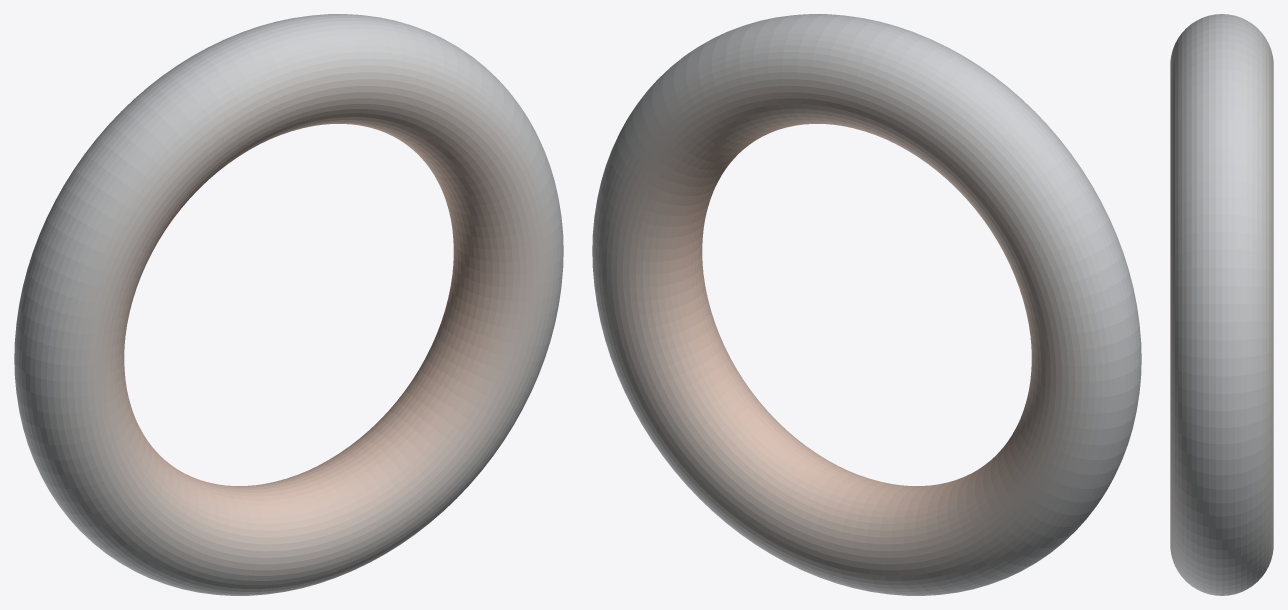
3 views of the same model, side by side, from view 1: azimuth 30°, elevation 25°; view 2: azimuth 150°, elevation 25°; view 3: azimuth 270°, elevation 25° (orthographic). The views are drawn at different scales.
Parts seen in each view (by area): view 1: world; view 2: world; view 3: world.
Boxes of the visible parts, x1,y1,x2,y2 form: world: [14, 14, 563, 595]; world: [592, 14, 1141, 595]; world: [1170, 14, 1273, 595].
Bounding box in the file's own units: 29.2 × 29.2 × 5.19.
